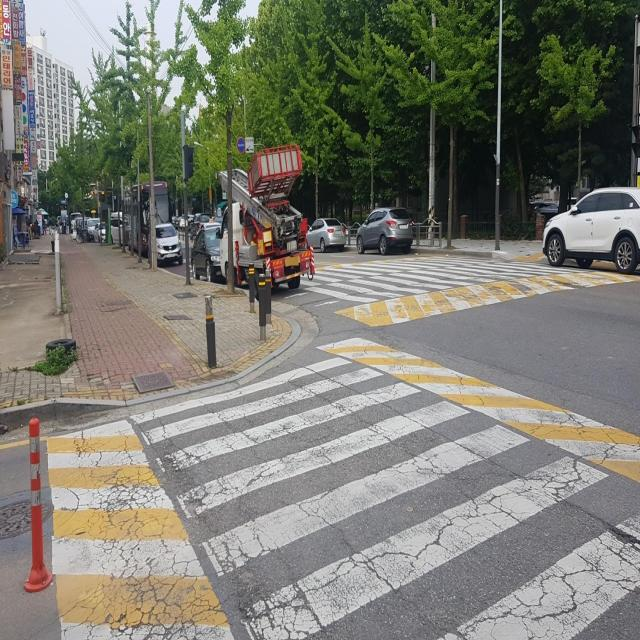횡단보도: (126, 351, 640, 640), (297, 233, 551, 318)
